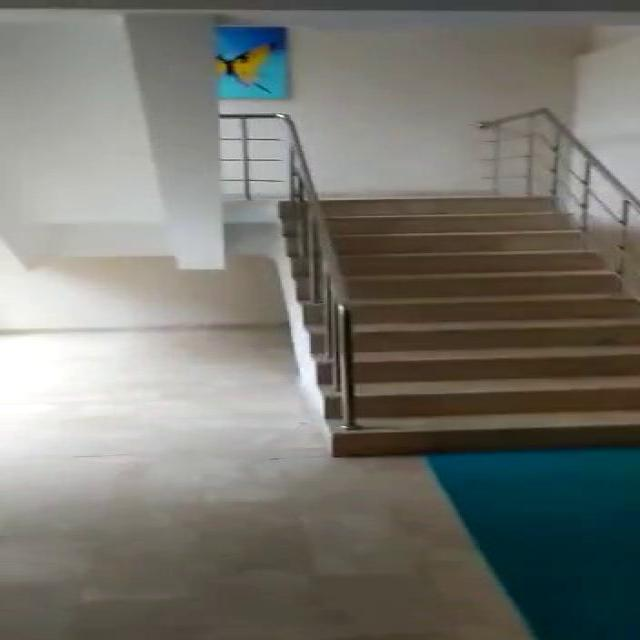stair: (264, 194, 640, 458)
